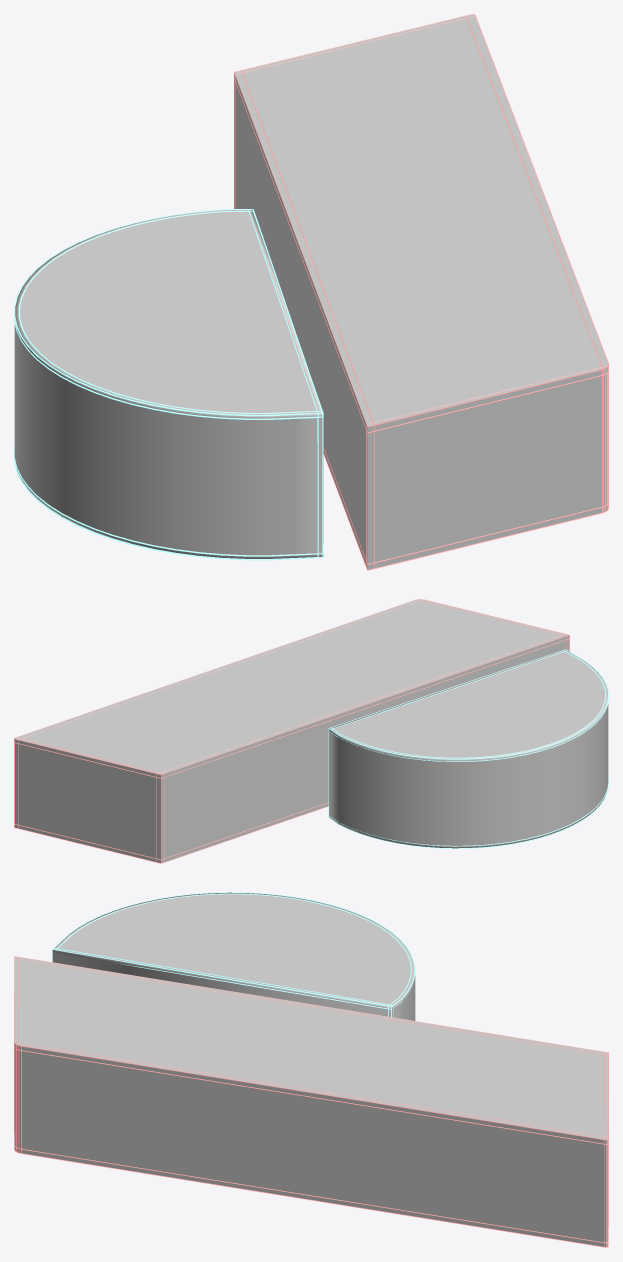
File: mod.glb
3 views of the same model, one above another, from view 1: azimuth 30°, elevation 25°; view 2: azimuth 150°, elevation 25°; view 3: azimuth 270°, elevation 25° (orthographic). The views are drawn at different scales.
Visible parts, largest first — view 1: Curve.002, Circle, Curve.005, Circle.004; view 2: Curve.002, Circle, Curve.005, Circle.004; view 3: Curve.002, Circle, Curve.005, Circle.004.
Boxes of the visible parts, x1=… form: Curve.002: x1=234, y1=14, x2=608, y2=569; Circle: x1=14, y1=209, x2=323, y2=558; Curve.005: x1=234, y1=14, x2=608, y2=570; Circle.004: x1=14, y1=209, x2=323, y2=560; Curve.002: x1=14, y1=599, x2=569, y2=862; Circle: x1=329, y1=650, x2=608, y2=848; Curve.005: x1=14, y1=599, x2=569, y2=863; Circle.004: x1=328, y1=649, x2=608, y2=848; Curve.002: x1=14, y1=956, x2=608, y2=1246; Circle: x1=52, y1=892, x2=415, y2=1020; Curve.005: x1=14, y1=956, x2=608, y2=1247; Circle.004: x1=52, y1=892, x2=415, y2=1017.
Size of the model in its own units: 1.11 by 0.2282 by 1.13.
